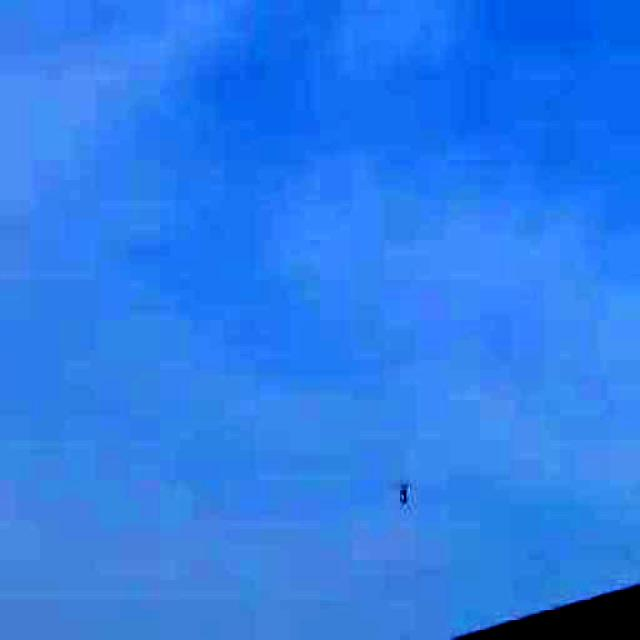drone: (380, 462, 428, 522)
